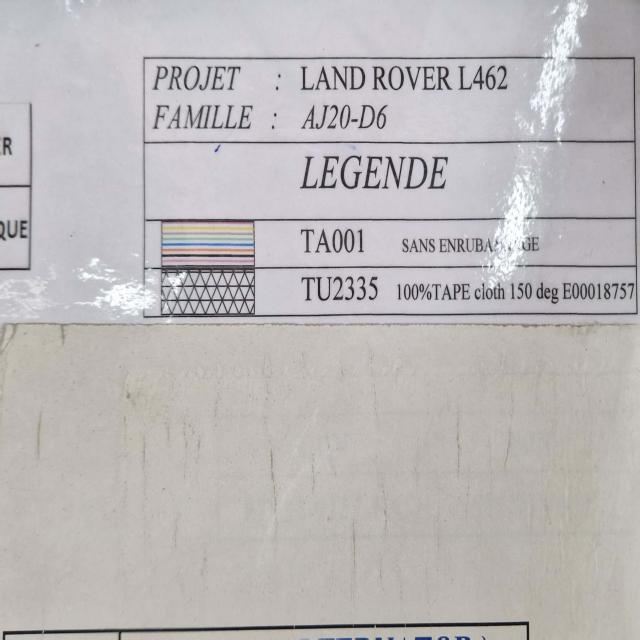Etiquette_Famille_AJ20_D-: (110, 0, 640, 381)
